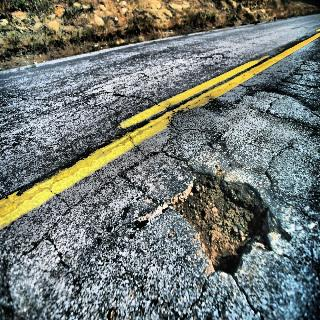crack: (87, 81, 198, 145), (253, 45, 320, 124)
pothole: (134, 152, 305, 277)
